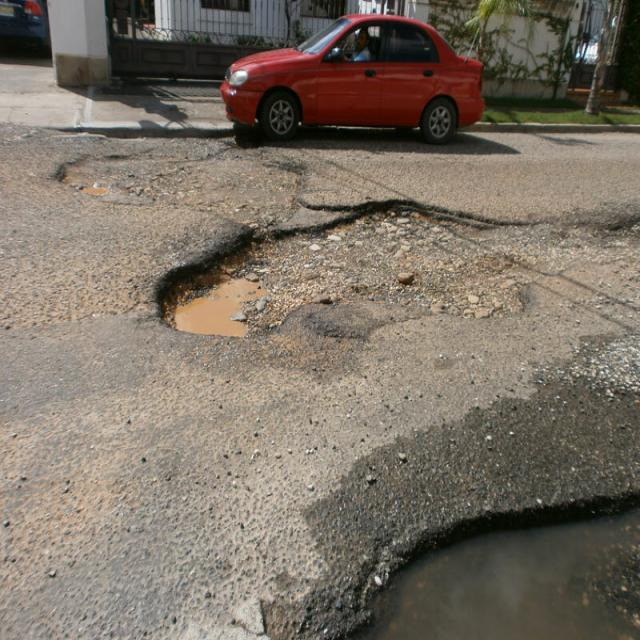Pothole: (35, 116, 611, 408), (282, 467, 634, 640)
